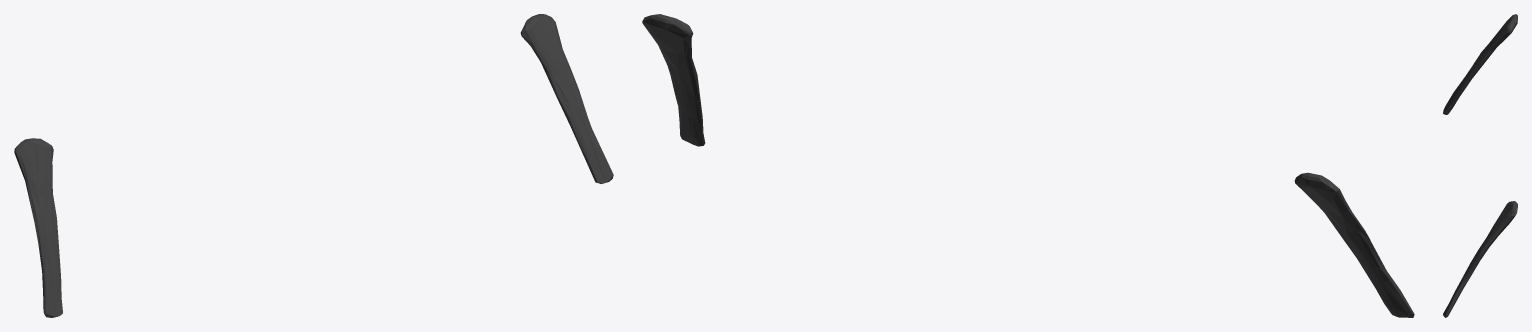
Rendered from lig_straight_sesamoidean_HL.glb.
3 views of the same model, side by side, from view 1: azimuth 30°, elevation 25°; view 2: azimuth 150°, elevation 25°; view 3: azimuth 270°, elevation 25° (orthographic). The views are drawn at different scales.
Visible parts, largest first — view 1: lig_straight_sesamoidean_HL; view 2: lig_straight_sesamoidean_HL; view 3: lig_straight_sesamoidean_HL.
Boxes of the visible parts, <box> form: lig_straight_sesamoidean_HL: <box>14,14,613,317</box>; lig_straight_sesamoidean_HL: <box>642,14,1414,317</box>; lig_straight_sesamoidean_HL: <box>1443,14,1517,317</box>.
Size of the model in its own units: 0.0051 by 0.00119 by 0.000767.
Materials: 1 (1 with a texture image).
